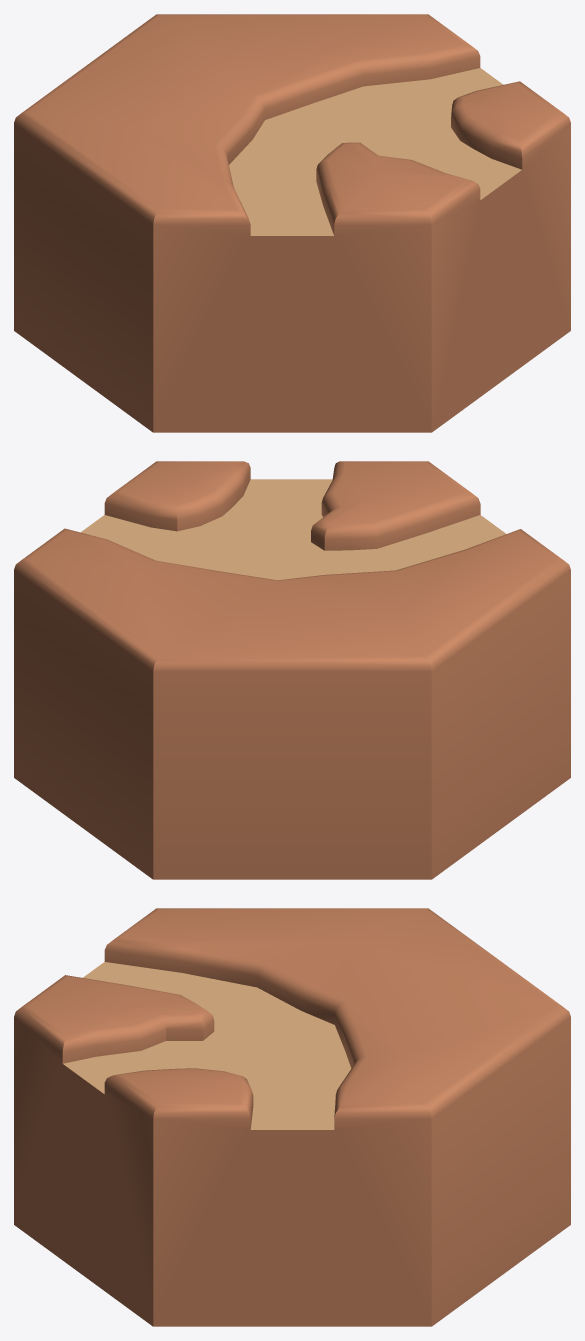
The model's file is kaykit-hex-rock-roadh.glb.
3 renders of one model, top to bottom at view 1: azimuth 30°, elevation 25°; view 2: azimuth 150°, elevation 25°; view 3: azimuth 270°, elevation 25°, orthographic.
Parts seen in each view (by area): view 1: hex_rock_roadH; view 2: hex_rock_roadH; view 3: hex_rock_roadH.
Part boxes in pixels (box(x1,y1,x2,y2)): hex_rock_roadH: box(14, 14, 570, 432); hex_rock_roadH: box(14, 461, 570, 879); hex_rock_roadH: box(14, 908, 570, 1326).
Size of the model in its own units: 2 by 1 by 2.31.
